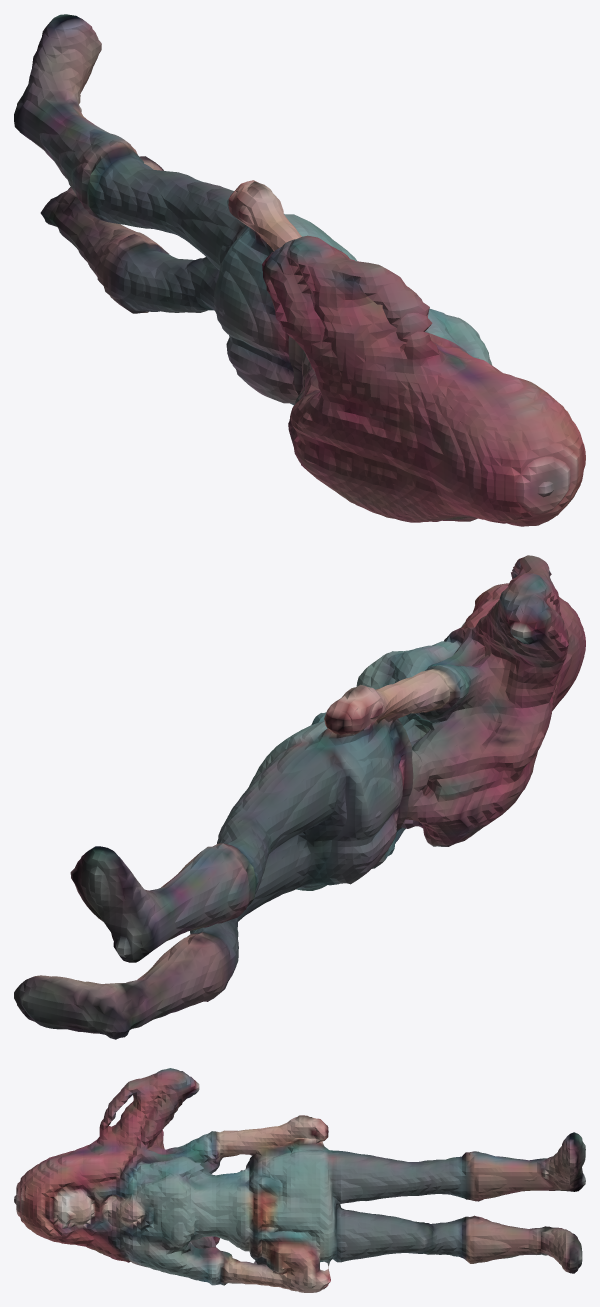
The picture shows the model from 3 angles, top to bottom: view 1: azimuth 30°, elevation 25°; view 2: azimuth 150°, elevation 25°; view 3: azimuth 270°, elevation 25°; orthographic projection. The views are drawn at different scales.
Parts seen in each view (by area): view 1: geometry_0; view 2: geometry_0; view 3: geometry_0.
Boxes of the visible parts, x1=… form: geometry_0: x1=14, y1=14, x2=585, y2=526; geometry_0: x1=14, y1=555, x2=585, y2=1039; geometry_0: x1=14, y1=1068, x2=585, y2=1292.
Bounding box in the file's own units: 0.2635 × 0.3197 × 0.9371.
